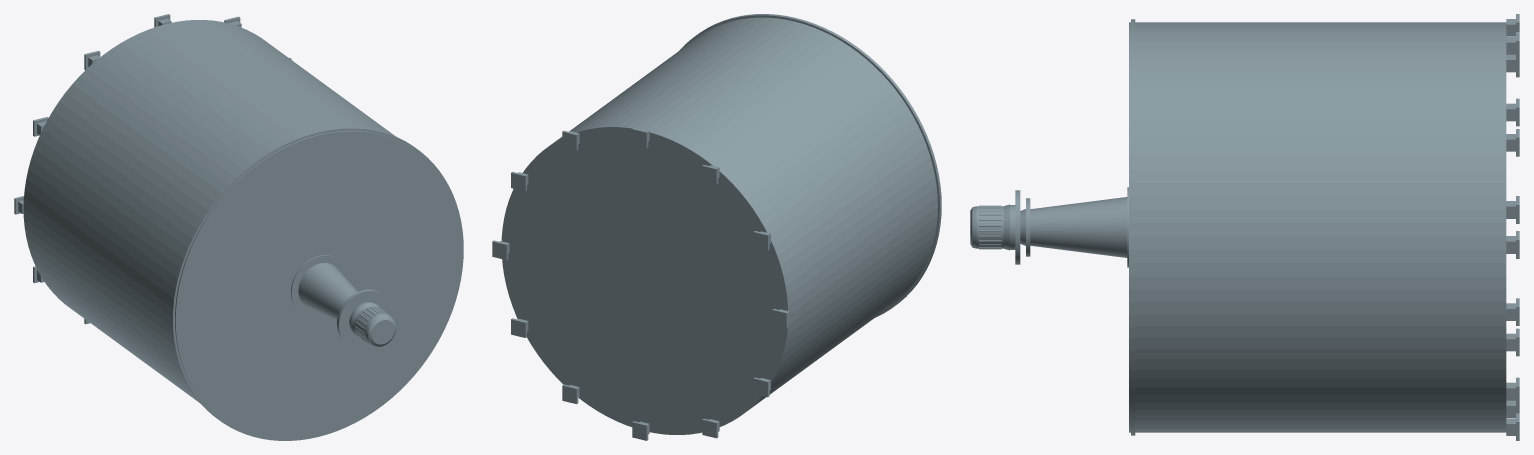
Rendered from C4_BH2C_tank_mixer.obj.
The picture shows the model from 3 angles, left to right: view 1: azimuth 30°, elevation 25°; view 2: azimuth 150°, elevation 25°; view 3: azimuth 270°, elevation 25°; orthographic projection. The views are drawn at different scales.
Parts seen in each view (by area): view 1: Tank_cover_lid, Tank_shell_OD5500_H5000, Lid_edge_rim, Hollow_conical_mixer_support, Drive_base_flange, Lid_mixer_mount_flange, Motor_rounded_crown; view 2: Tank_shell_OD5500_H5000, Lid_edge_rim; view 3: Tank_shell_OD5500_H5000, Hollow_conical_mixer_support, Lid_edge_rim, Motor_body, Tank_cover_lid, Motor_cooling_fin.
Boxes of the visible parts, x1,y1,x2,y2 form: Tank_cover_lid: (175,130,462,439); Tank_shell_OD5500_H5000: (23,20,395,402); Lid_edge_rim: (171,127,463,440); Hollow_conical_mixer_support: (298,263,357,320); Drive_base_flange: (337,289,390,346); Lid_mixer_mount_flange: (291,255,347,315); Motor_rounded_crown: (368,316,396,346); Tank_shell_OD5500_H5000: (501,17,937,434); Lid_edge_rim: (679,14,941,317); Tank_shell_OD5500_H5000: (1135,22,1506,432); Hollow_conical_mixer_support: (1030,197,1127,257); Lid_edge_rim: (1131,19,1135,435); Motor_body: (976,206,1003,248); Tank_cover_lid: (1129,22,1130,432); Motor_cooling_fin: (979,205,1001,249).
Size of the model in its own units: 5.65 by 5.65 by 7.36.
